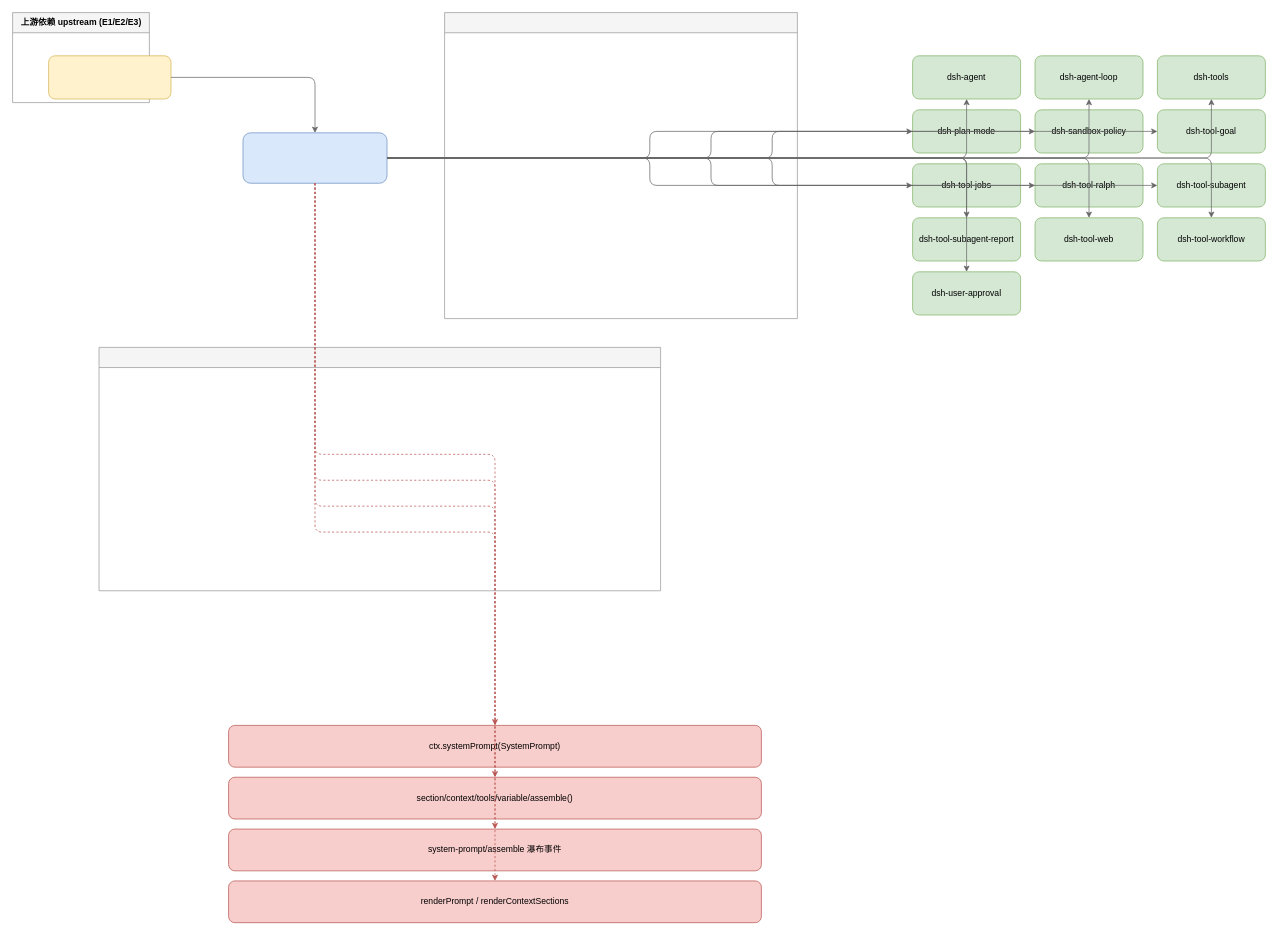
The diagram is 1278 pixels wide and 935 high, and some of its shapes have lost their labels. The shapes that lost their labels are listed below. From the top down, each one's centre as x and y in pixels, then its label:
At (109,77): "dsh-llm (E1)".
At (314,157): "@deepseek-ai/dsh-system-prompt".
At (620,165): "下游被依赖 dependents".
At (379,469): "提供服务 provides（关键项）".
